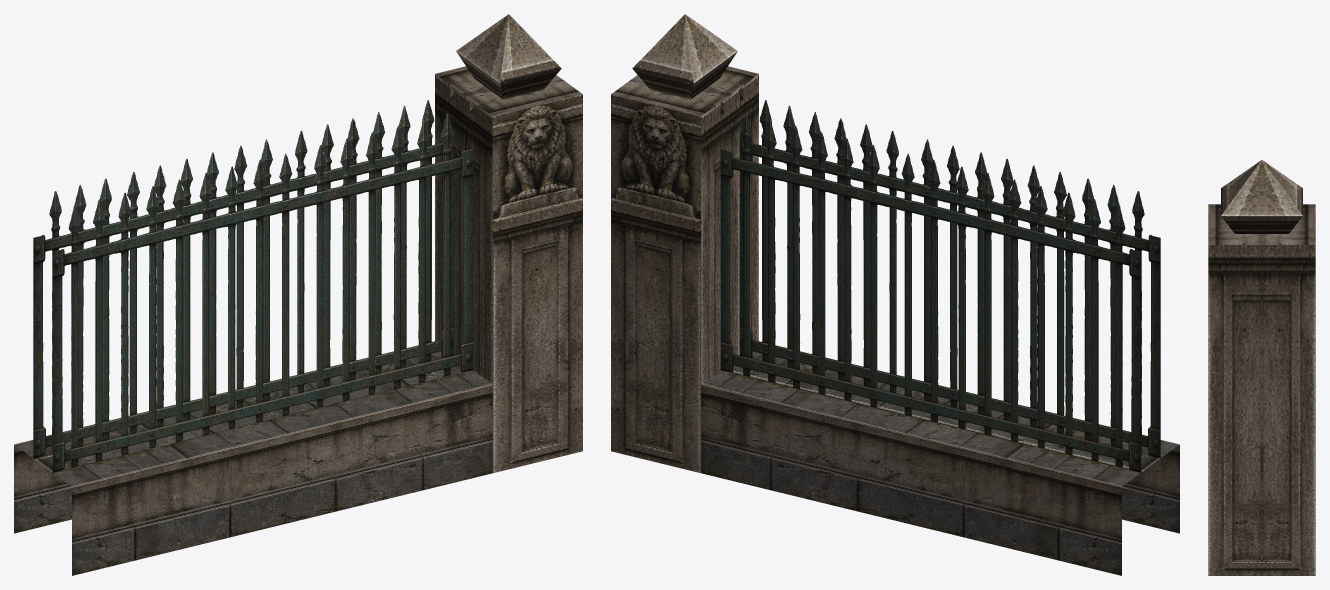
Rendered from ParkWall.fbx.
3 renders of one model, left to right at view 1: azimuth 30°, elevation 25°; view 2: azimuth 150°, elevation 25°; view 3: azimuth 270°, elevation 25°, orthographic. The views are drawn at different scales.
Visible parts, largest first — view 1: ConcreteFence; view 2: ConcreteFence; view 3: ConcreteFence.
Boxes of the visible parts, left/top/right/bottom form: ConcreteFence: left=14, top=14, right=582, bottom=575; ConcreteFence: left=611, top=14, right=1179, bottom=575; ConcreteFence: left=1208, top=160, right=1315, bottom=575.
Size of the model in its own units: 1.7 by 1.36 by 0.3342.
Materials: 1 (1 with a texture image).
